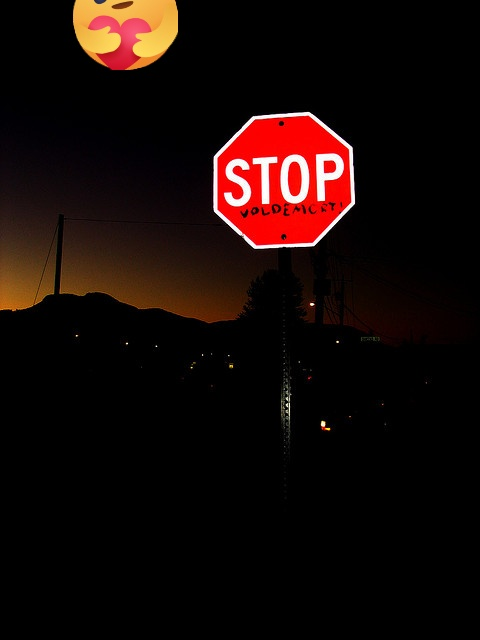care: (73, 0, 178, 70)
